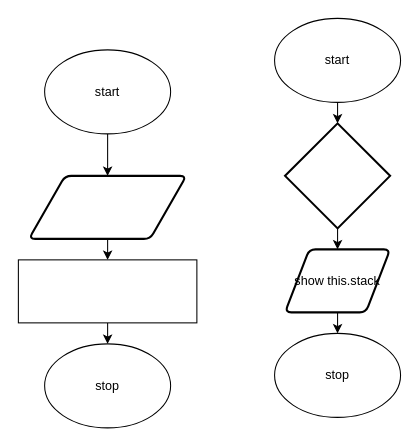
The diagram is 419 pixels wide and 446 high, and some of its shapes have lost their labels. Each missing label, with the centre of its shape:
for (var element of this.stack: the point at 337,175
get pushed number: the point at 107,206
this.stack.push(pushed number): the point at 107,291
